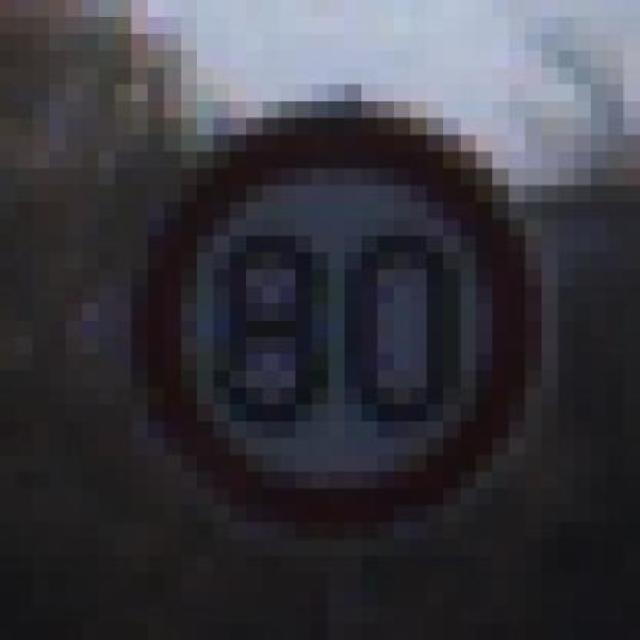forb_speed_over_80: (159, 117, 544, 531)
